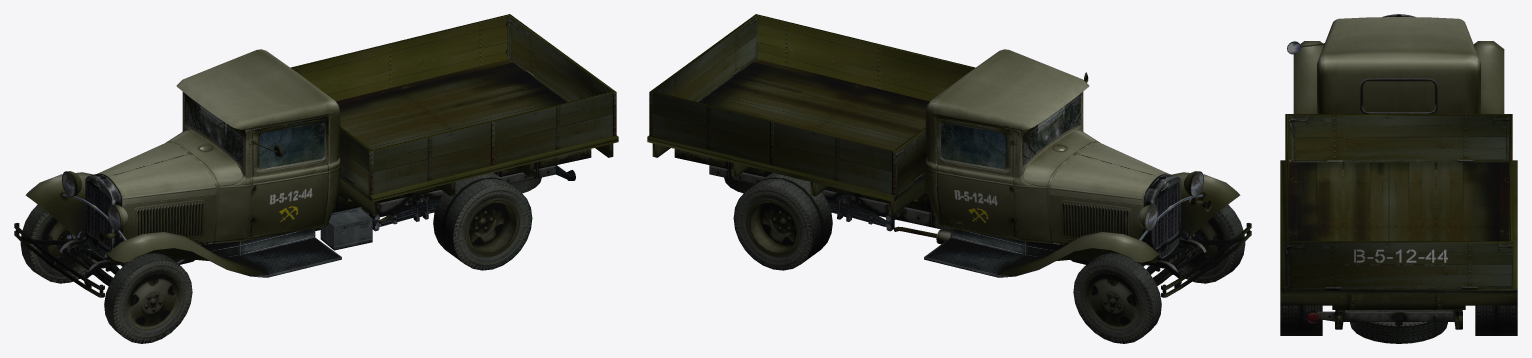
The model's file is gaz-aa.glb.
3 views of the same model, side by side, from view 1: azimuth 30°, elevation 25°; view 2: azimuth 150°, elevation 25°; view 3: azimuth 270°, elevation 25° (orthographic). The views are drawn at different scales.
Visible parts, largest first — view 1: gaz-aa bo4, gaz-aa bo1, gaz-aa box, gaz-aa bo0, gaz-aa bo3, gaz-aa bo2; view 2: gaz-aa bo4, gaz-aa bo1, gaz-aa box, gaz-aa bo0, gaz-aa bo3; view 3: gaz-aa bo4, gaz-aa bo1, gaz-aa box, gaz-aa bo0, gaz-aa bo3, gaz-aa bo2.
Part boxes in pixels (bbox=[...]): gaz-aa bo4: bbox=[290, 14, 618, 215]; gaz-aa bo1: bbox=[85, 49, 340, 259]; gaz-aa box: bbox=[20, 173, 541, 343]; gaz-aa bo0: bbox=[25, 171, 341, 277]; gaz-aa bo3: bbox=[14, 149, 591, 297]; gaz-aa bo2: bbox=[251, 141, 372, 250]; gaz-aa bo4: bbox=[647, 14, 975, 215]; gaz-aa bo1: bbox=[925, 49, 1180, 259]; gaz-aa box: bbox=[724, 173, 1245, 343]; gaz-aa bo0: bbox=[924, 171, 1240, 277]; gaz-aa bo3: bbox=[674, 149, 1251, 297]; gaz-aa bo4: bbox=[1280, 114, 1517, 309]; gaz-aa bo1: bbox=[1317, 14, 1480, 113]; gaz-aa box: bbox=[1280, 305, 1517, 343]; gaz-aa bo0: bbox=[1293, 41, 1504, 113]; gaz-aa bo3: bbox=[1307, 310, 1462, 329]; gaz-aa bo2: bbox=[1287, 41, 1324, 54].
Size of the model in its own units: 29 by 10.43 by 10.94.
Materials: 6 (6 with a texture image).
